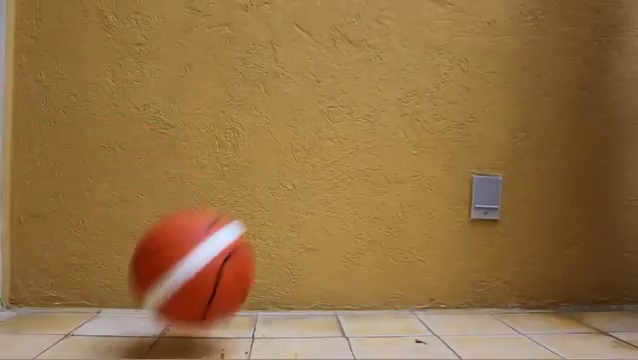ball: (126, 205, 256, 328)
